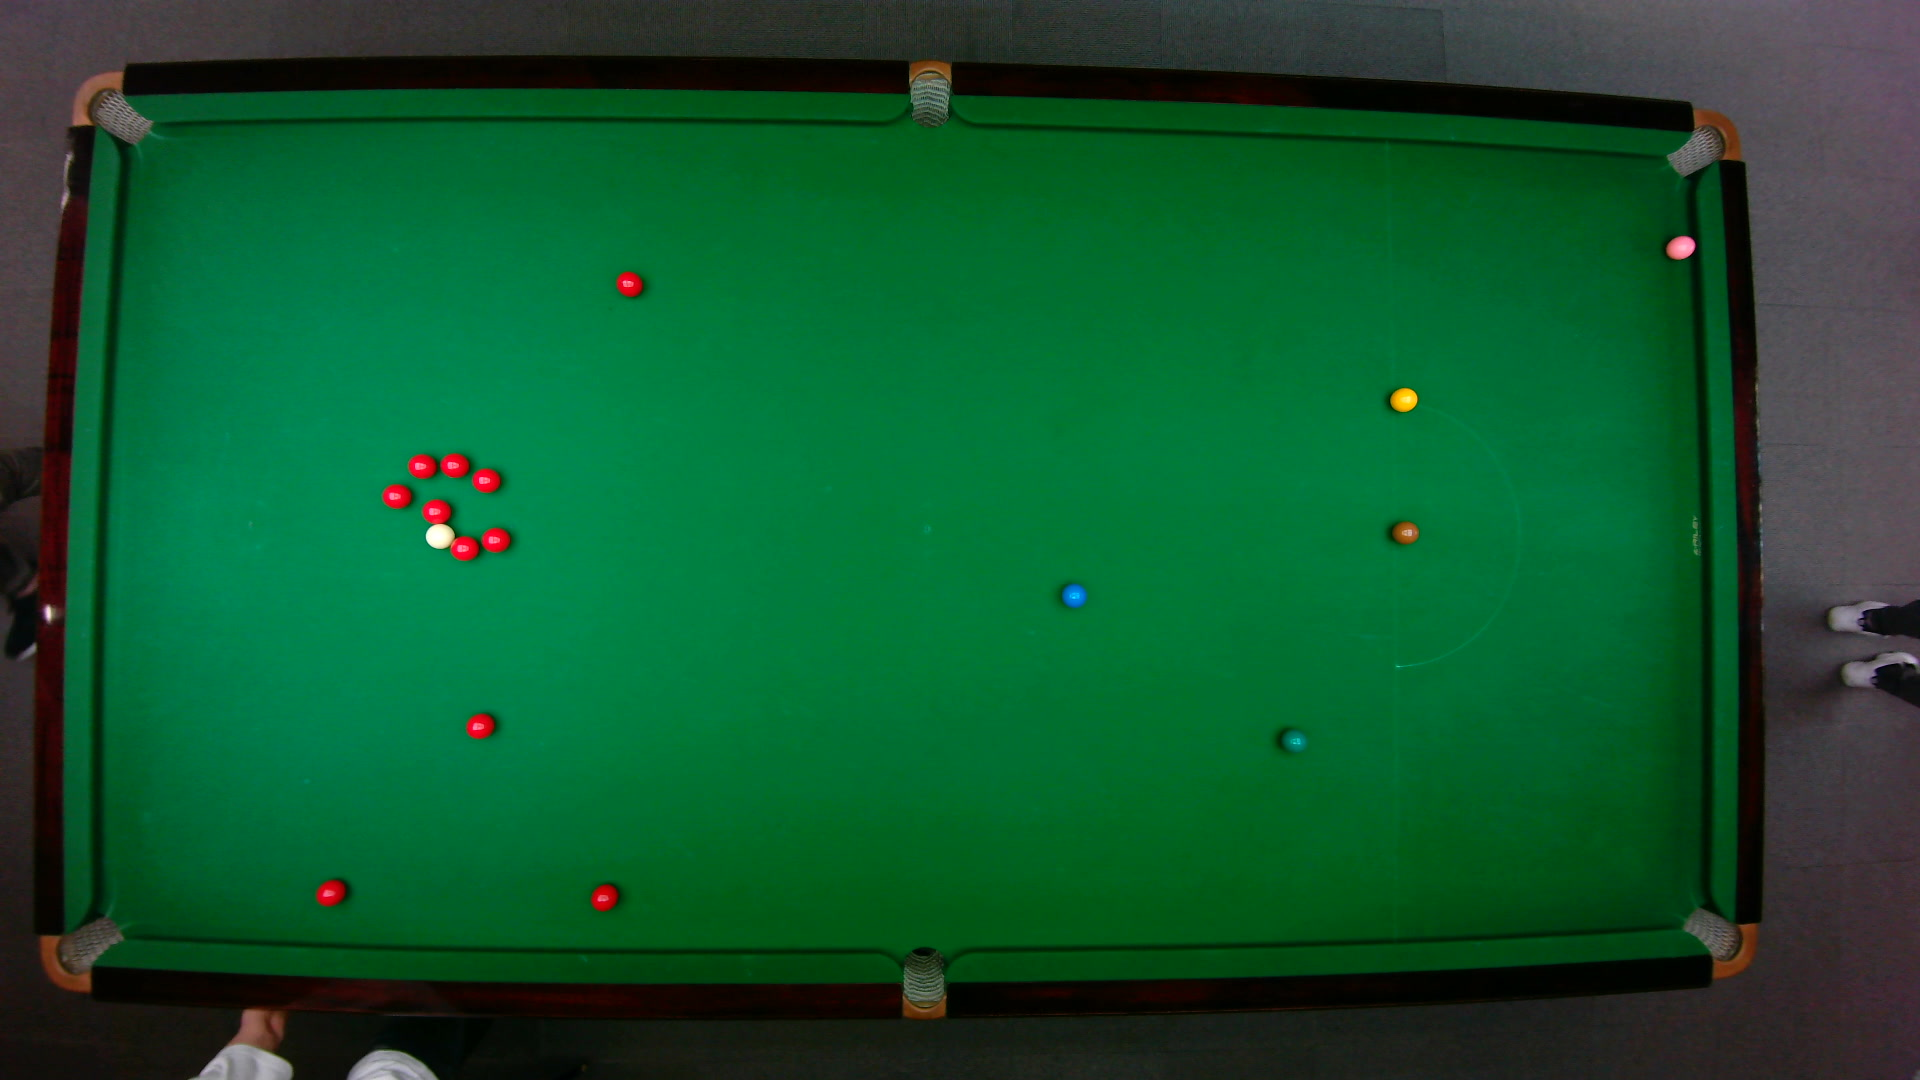bag: (38, 914, 125, 993), (69, 69, 153, 145), (1679, 905, 1756, 978), (1663, 107, 1741, 178), (901, 944, 944, 1021), (909, 57, 949, 128)
blue: (1059, 582, 1087, 608)
brown: (1389, 520, 1419, 545)
green: (1278, 727, 1308, 753)
pink: (1663, 232, 1697, 260)
red: (314, 877, 345, 907), (463, 709, 496, 738), (479, 525, 512, 553), (589, 882, 618, 913), (419, 497, 452, 524), (469, 467, 502, 493), (613, 269, 644, 297), (448, 534, 480, 560), (439, 451, 469, 477), (380, 483, 411, 508), (406, 452, 436, 477)
white: (423, 522, 455, 549)
yellow: (1389, 385, 1418, 411)
zone: (1390, 400, 1520, 669)
